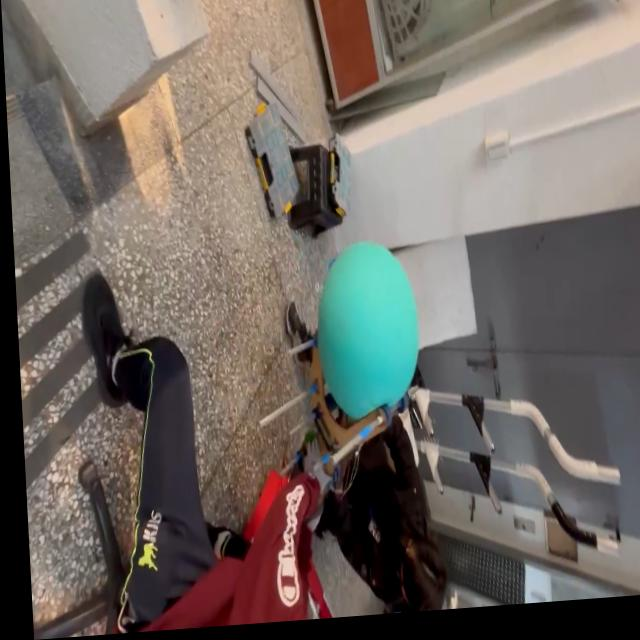ALGAE: (311, 235, 424, 424)
